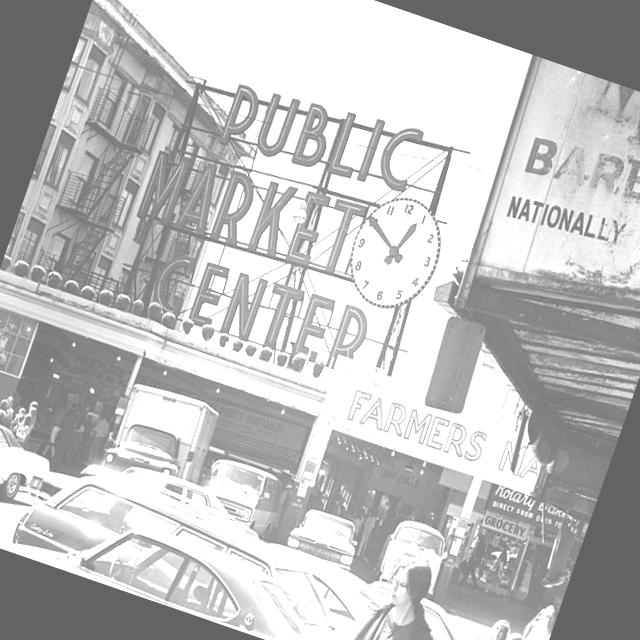Vehicle: (6, 455, 374, 640), (0, 471, 359, 640), (198, 520, 498, 640), (79, 448, 266, 540), (100, 374, 227, 501), (194, 452, 294, 542), (354, 575, 485, 640), (372, 513, 452, 597), (0, 407, 55, 521), (286, 504, 364, 570)
